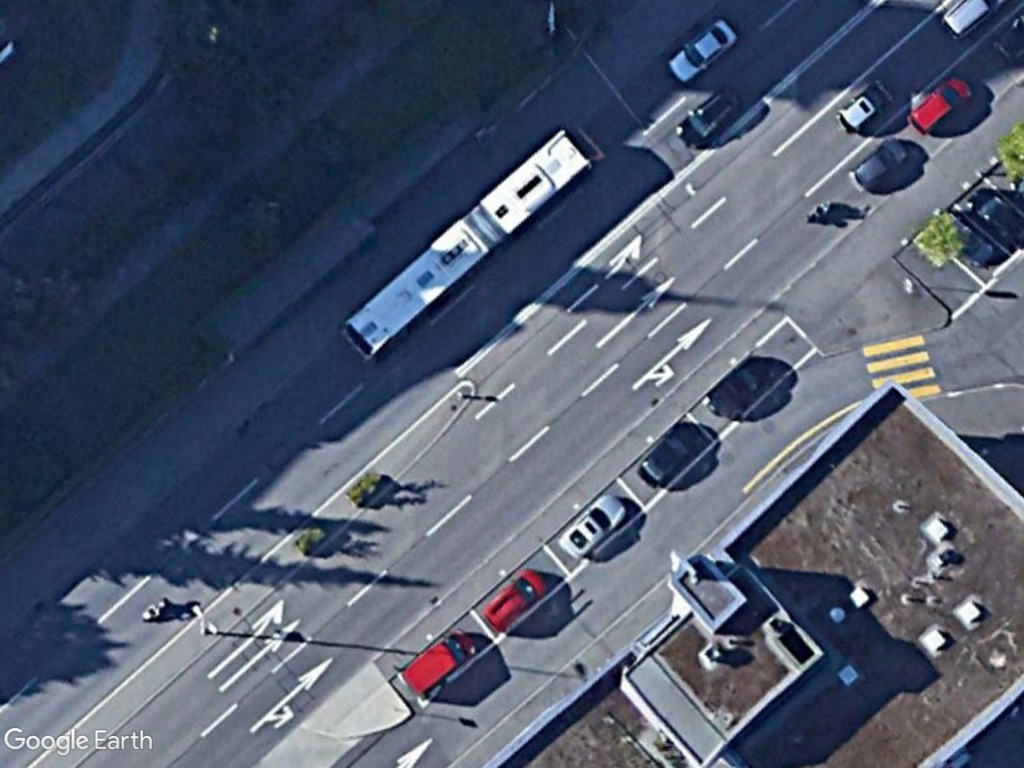bus: (334, 211, 491, 362), (475, 120, 604, 239)
car: (553, 491, 630, 563), (665, 12, 740, 85), (480, 564, 549, 634), (904, 72, 977, 136), (846, 133, 913, 195), (834, 78, 894, 135)
van: (394, 626, 477, 696)
